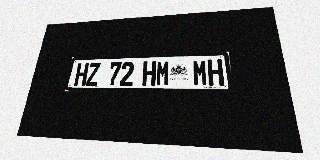2: (120, 62, 134, 86)
7: (107, 62, 122, 86)
H: (207, 59, 224, 86), (142, 61, 156, 86), (74, 63, 89, 86)
M: (192, 59, 208, 86), (156, 61, 170, 86)
Z: (86, 63, 101, 86)
